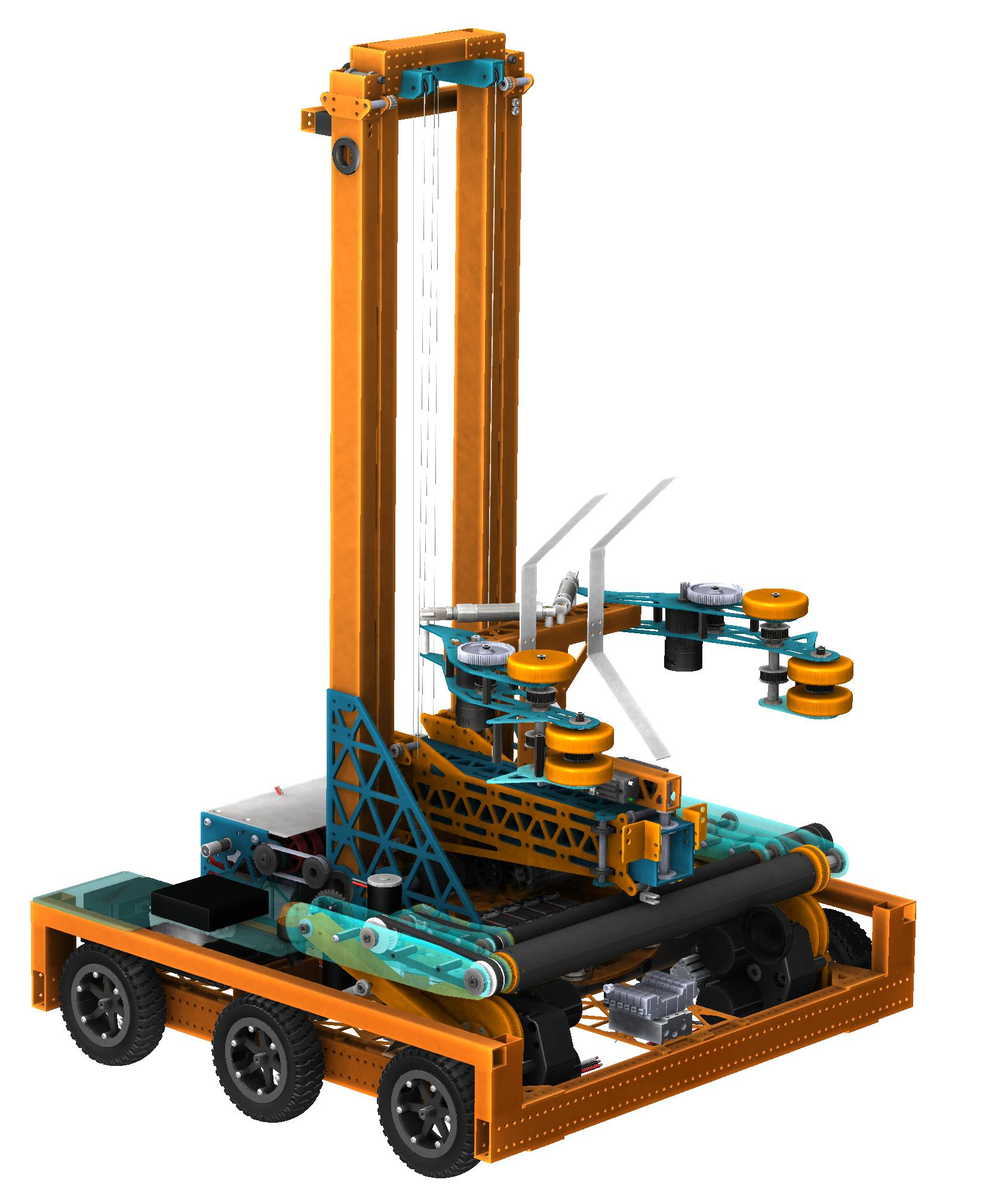robot: (12, 16, 930, 1179)
